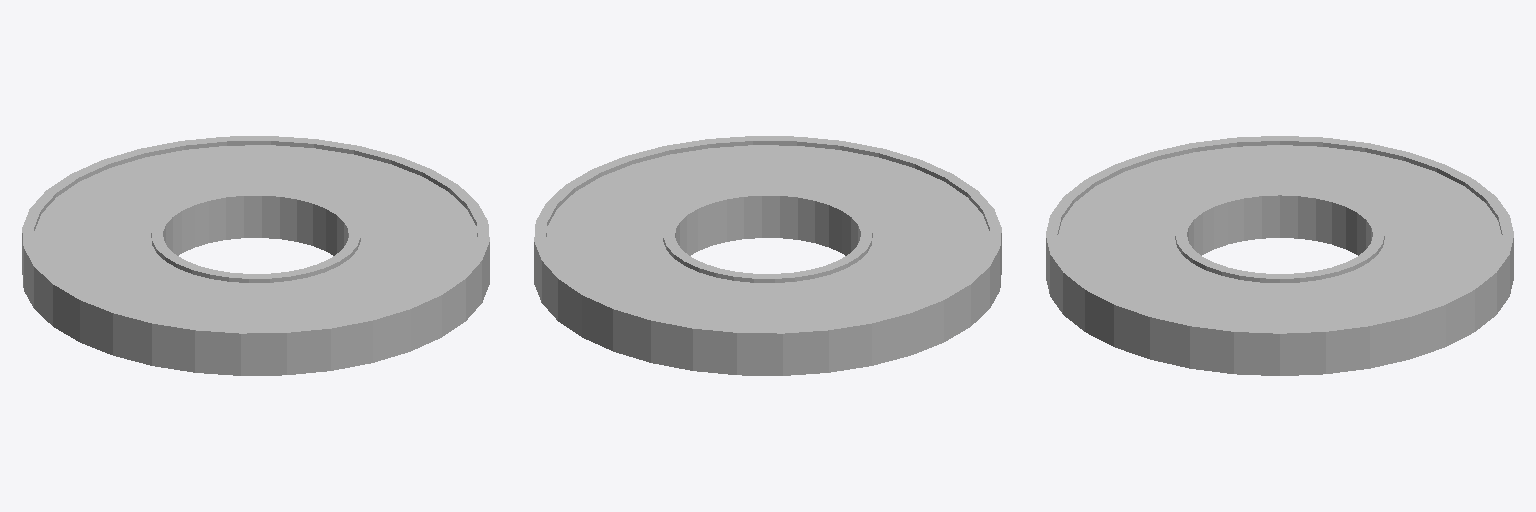
File: token.obj
The picture shows the model from 3 angles: view 1: azimuth 30°, elevation 25°; view 2: azimuth 150°, elevation 25°; view 3: azimuth 270°, elevation 25°; orthographic projection.
Visible parts, largest first — view 1: Cylinder; view 2: Cylinder; view 3: Cylinder.
Boxes of the visible parts, x1,y1,x2,y2 form: Cylinder: [22, 136, 489, 375]; Cylinder: [534, 136, 1001, 375]; Cylinder: [1046, 136, 1513, 375].
Bounding box in the file's own units: 1 × 0.1 × 1.